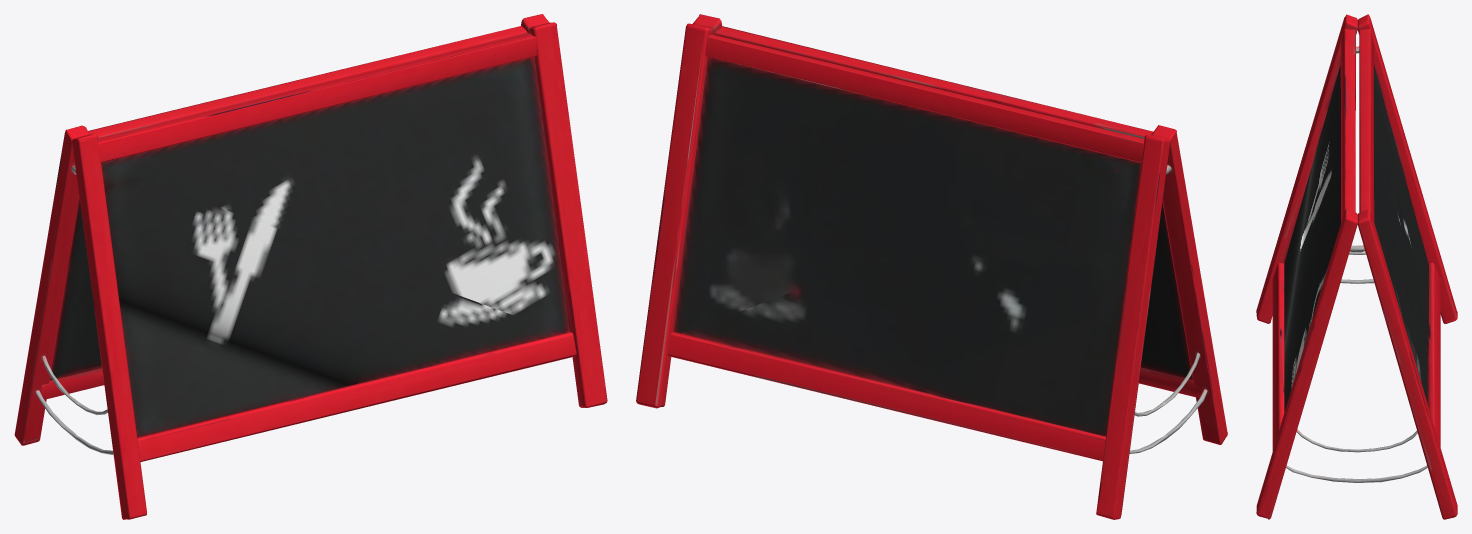
File: prop_sign_menu.glb
The picture shows the model from 3 angles, left to right: view 1: azimuth 30°, elevation 25°; view 2: azimuth 150°, elevation 25°; view 3: azimuth 270°, elevation 25°; orthographic projection. The views are drawn at different scales.
Size of the model in its own units: 1 by 0.6959 by 0.4181.
Materials: 1 (1 with a texture image).
